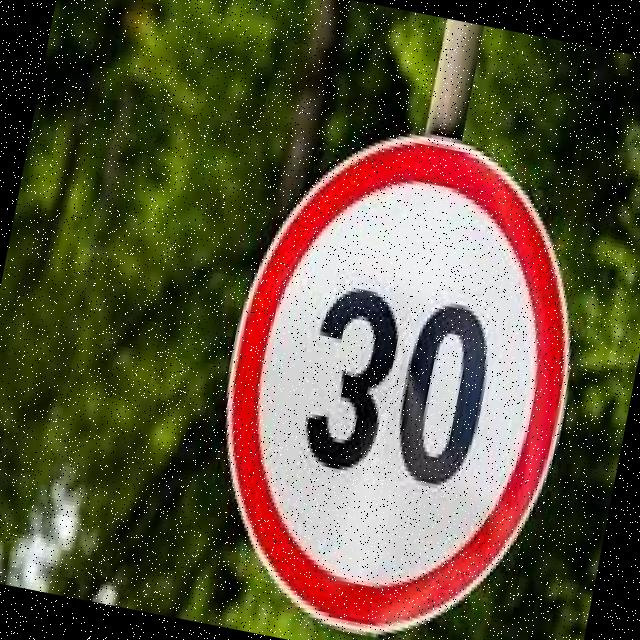speed_limit_30: (174, 98, 617, 640)
